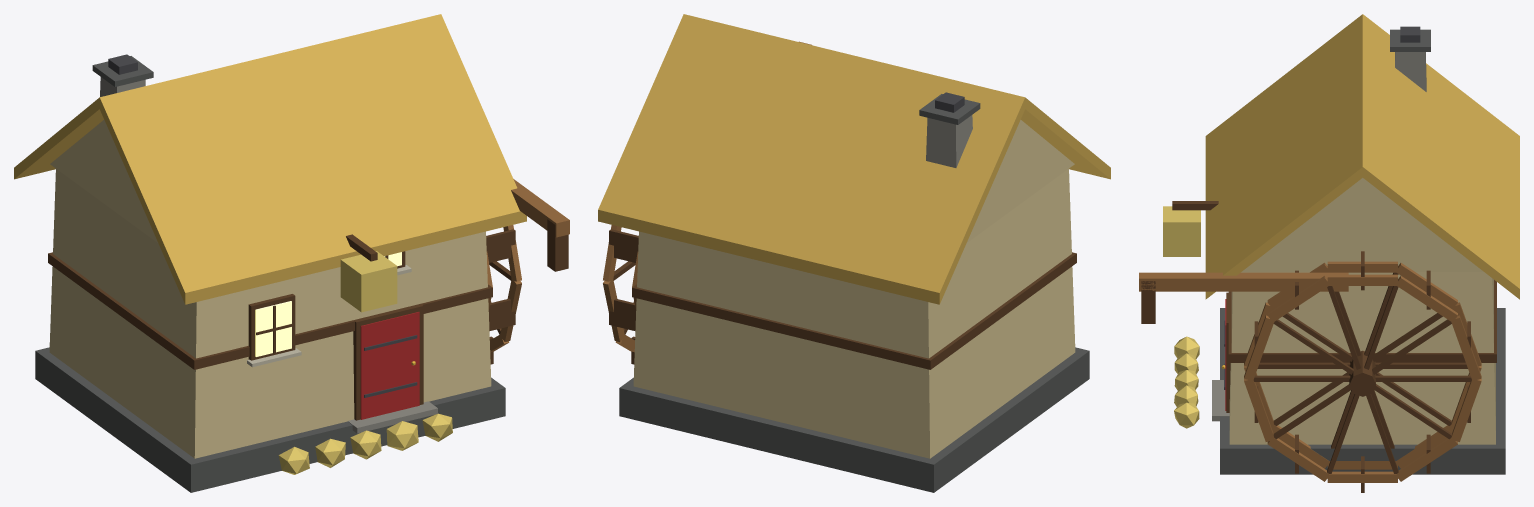
File: mill_water.glb
3 renders of one model, left to right at view 1: azimuth 30°, elevation 25°; view 2: azimuth 150°, elevation 25°; view 3: azimuth 270°, elevation 25°, orthographic. The views are drawn at different scales.
Parts seen in each view (by area): view 1: mill_water; view 2: mill_water; view 3: mill_water.
Part boxes in pixels (x1,y1,x2,y2): mill_water: (14, 14, 569, 492); mill_water: (598, 14, 1110, 492); mill_water: (1139, 14, 1519, 492).
Size of what is drawn, in the model's own units: 8.2 by 7.52 by 8.
